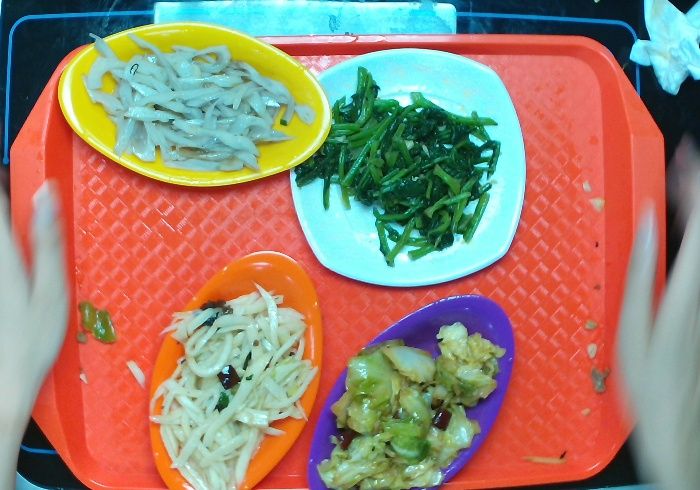RJxy-Fen_Hong_Tuo_Yuan: (308, 293, 524, 490)
RJxy-Huang_Se_Tuo_Yuan: (57, 17, 328, 192)
RJxy-Ju_Huang_Tuo_Yuan: (146, 257, 323, 490)
RJxy-Si_Fang_Die: (289, 55, 530, 292)
